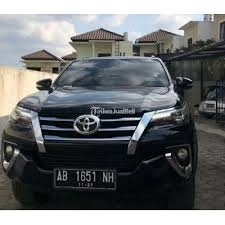plate: (54, 168, 115, 189)
